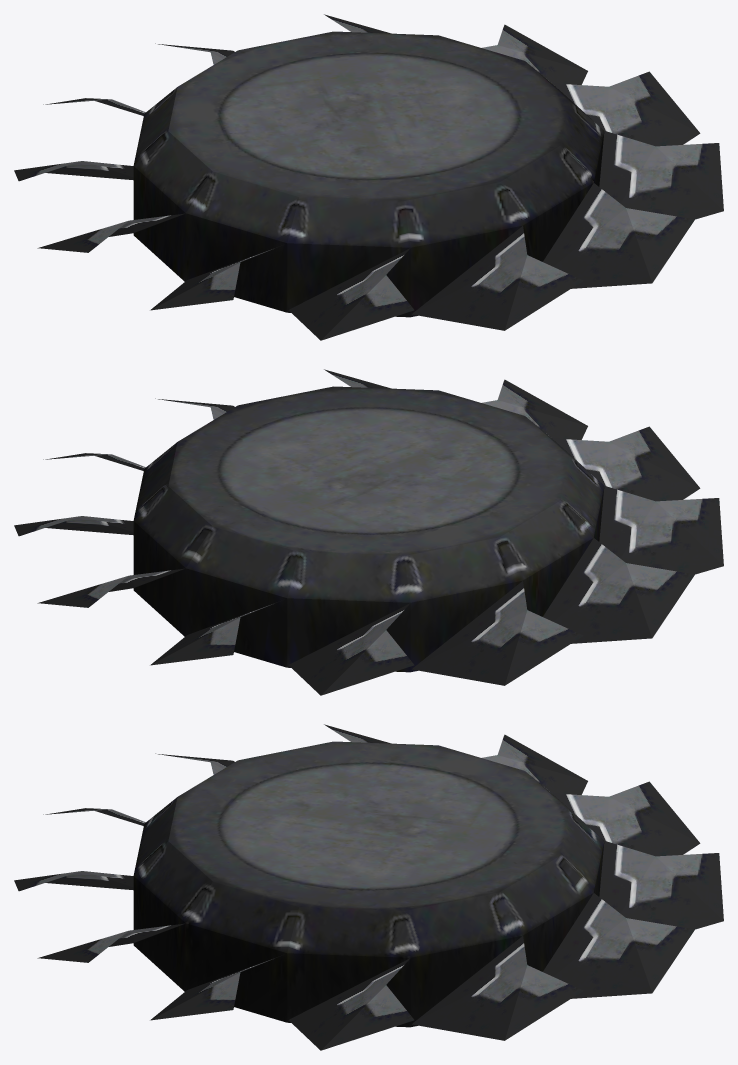
File: Engine.obj
3 renders of one model, top to bottom at view 1: azimuth 30°, elevation 25°; view 2: azimuth 150°, elevation 25°; view 3: azimuth 270°, elevation 25°, orthographic.
Visible parts, largest first — view 1: Engine_Drone.001; view 2: Engine_Drone.001; view 3: Engine_Drone.001.
Part boxes in pixels (left/top/right/bottom): Engine_Drone.001: left=14, top=14, right=723, bottom=340; Engine_Drone.001: left=14, top=369, right=723, bottom=695; Engine_Drone.001: left=14, top=724, right=723, bottom=1050.
Size of the model in its own units: 0.6432 by 0.1015 by 0.6432.
1 material, 1 textured.
